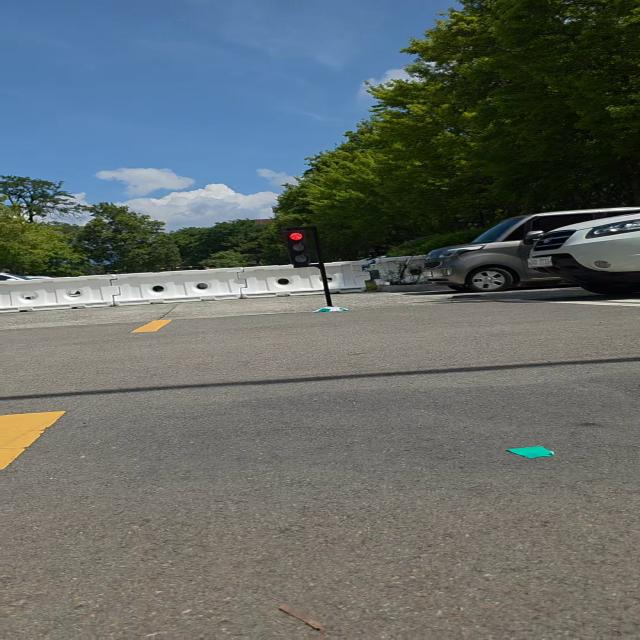red: (280, 230, 318, 267)
